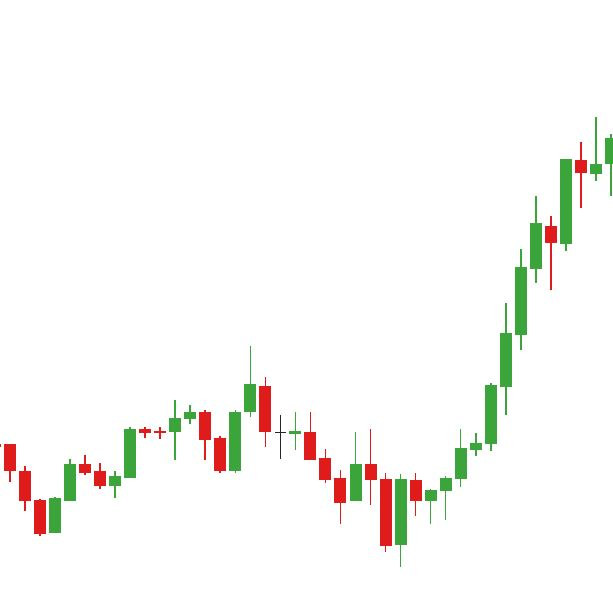buy: (34, 424, 409, 572)
